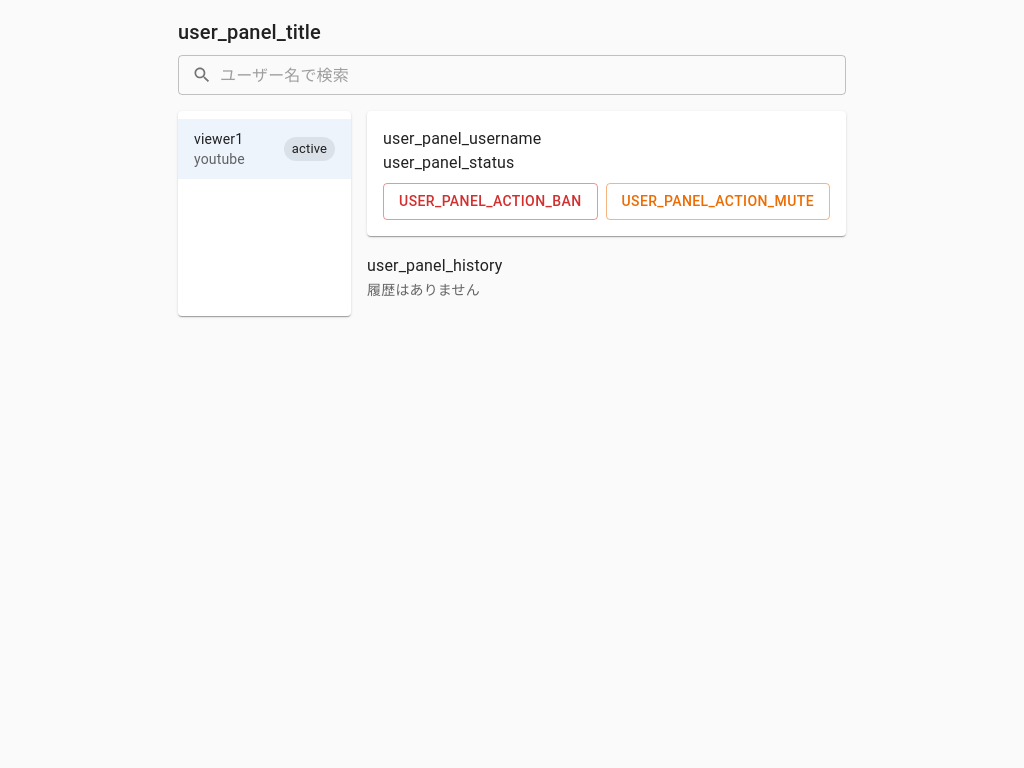
Test: UserPanel の BAN › 【最重要】プラットフォームに反映できなかったBANを成功と見せない
Expected: the text "viewer1" is shown, [194,131,243,147]
Click the button "user_panel_action_ban".
click(490, 201)  # box [383,183,598,220]
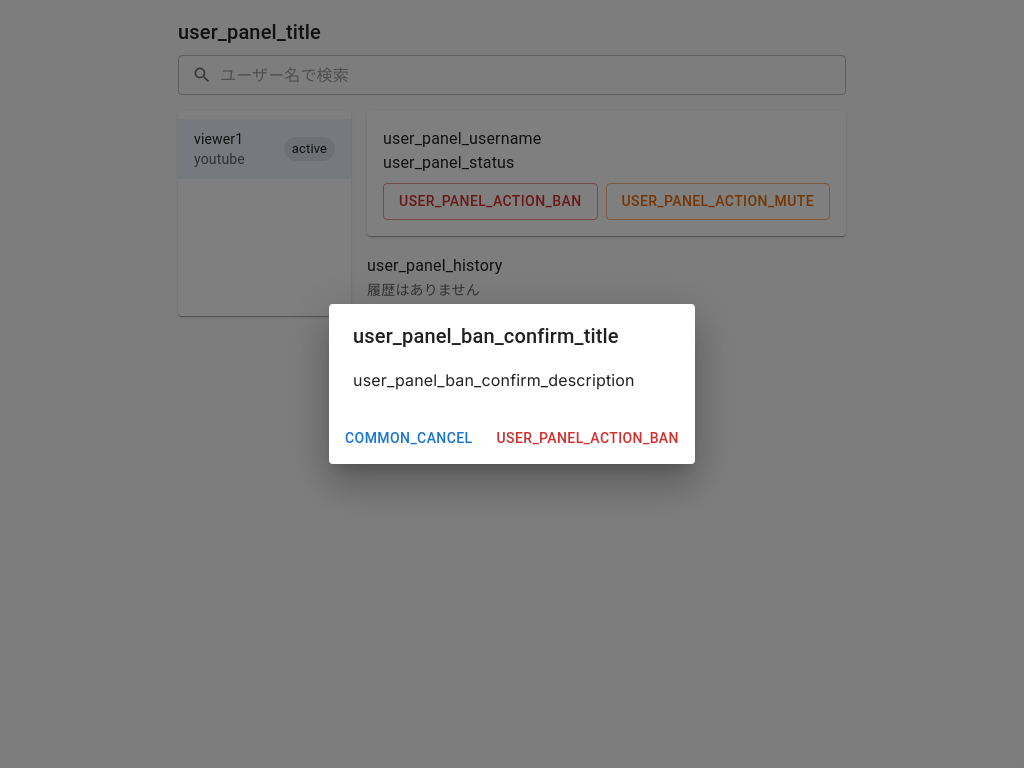
Click the button "user_panel_action_ban".
click(588, 438)  # box [488,420,687,456]
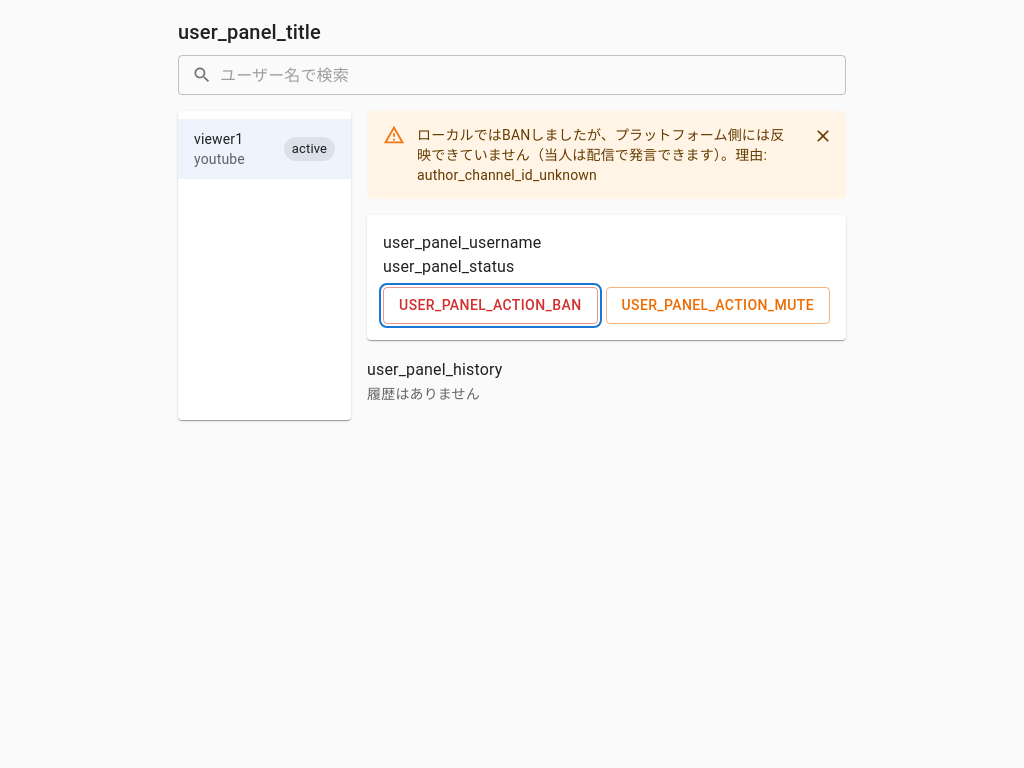
Expected: the text "author_channel_id_unknown" is shown, [417,127,784,183]
